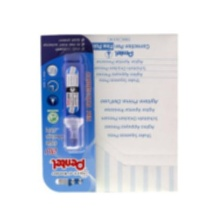book: (56, 32, 179, 195), (38, 33, 99, 194)
correction_fluid: (60, 51, 90, 153)
